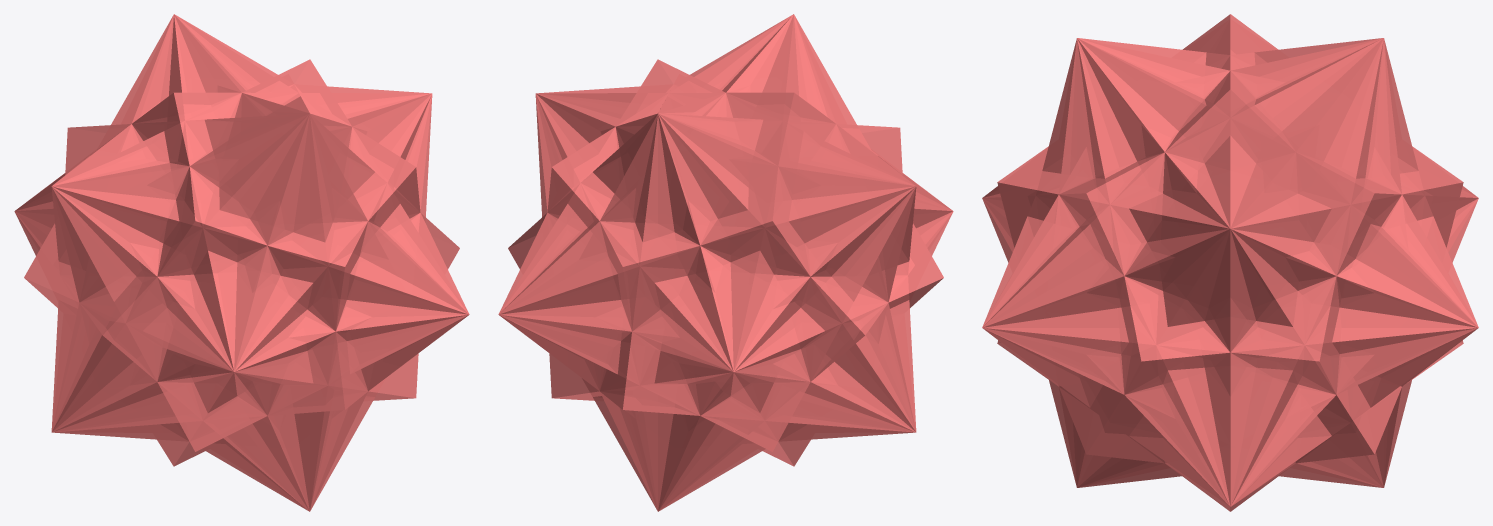
File: GreatDodecacronicHexecontahedron.obj
3 renders of one model, left to right at view 1: azimuth 30°, elevation 25°; view 2: azimuth 150°, elevation 25°; view 3: azimuth 270°, elevation 25°, orthographic. The views are drawn at different scales.
Size of the model in its own units: 1.24 by 1.24 by 1.24.
